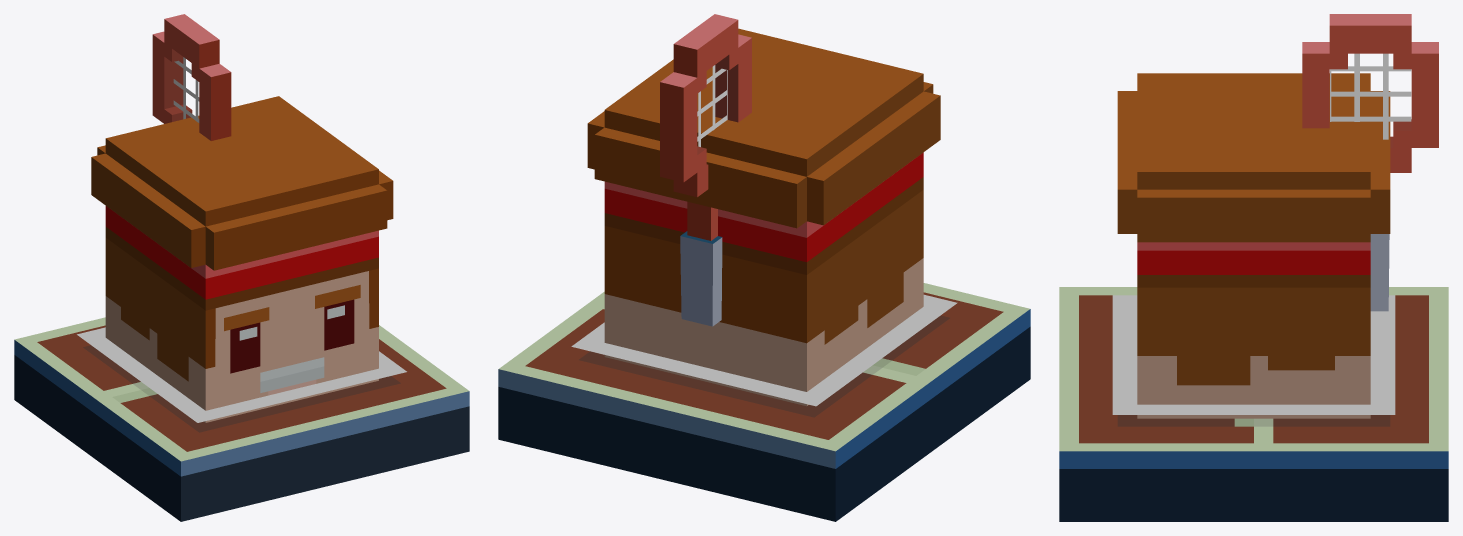
File: Tower_Tennis_L5.fbx
3 views of the same model, side by side, from view 1: azimuth 30°, elevation 25°; view 2: azimuth 150°, elevation 25°; view 3: azimuth 270°, elevation 25° (orthographic). The views are drawn at different scales.
Visible parts, largest first — view 1: Body, Base, Weapon, shadow, Net; view 2: Body, Base, Weapon, shadow, Net; view 3: Body, Base, Weapon, shadow, Net.
Part boxes in pixels (left/top/right/bottom): Body: left=91, top=96, right=393, bottom=422; Base: left=14, top=317, right=469, bottom=521; Weapon: left=152, top=14, right=231, bottom=140; shadow: left=77, top=327, right=406, bottom=422; Net: left=173, top=57, right=199, bottom=122; Body: left=587, top=28, right=940, bottom=406; Base: left=498, top=283, right=1030, bottom=521; Weapon: left=660, top=14, right=751, bottom=326; shadow: left=571, top=294, right=957, bottom=406; Net: left=697, top=65, right=727, bottom=146; Body: left=1117, top=73, right=1390, bottom=418; Base: left=1059, top=287, right=1448, bottom=521; Weapon: left=1302, top=14, right=1438, bottom=311; shadow: left=1112, top=295, right=1395, bottom=414; Net: left=1330, top=53, right=1411, bottom=139.
Size of the model in its own units: 100 by 119 by 100.
